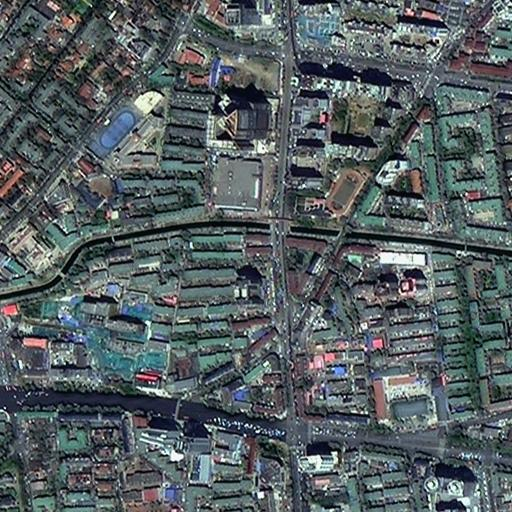school: (83, 87, 169, 173), (286, 164, 376, 225)
